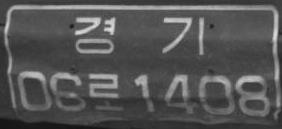0: (198, 73, 237, 117), (15, 70, 53, 112)
1: (130, 73, 159, 113)
4: (163, 73, 198, 115)
6: (52, 70, 87, 114)
8: (237, 73, 272, 118)
경기_D: (73, 15, 206, 56)
로: (87, 71, 125, 112)
